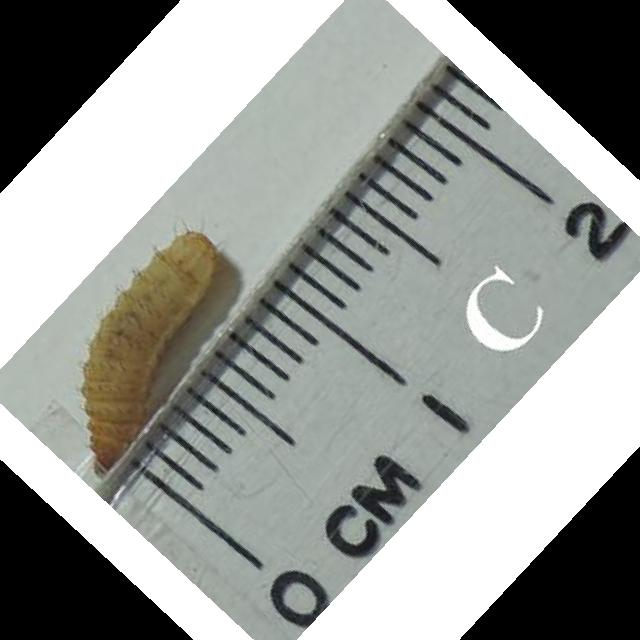Maggot: (77, 227, 225, 478)
